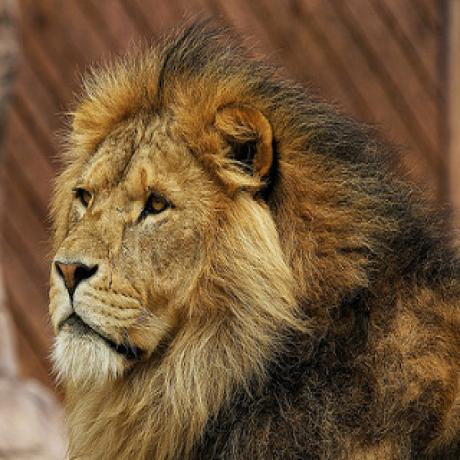Lion: (44, 21, 460, 460)
